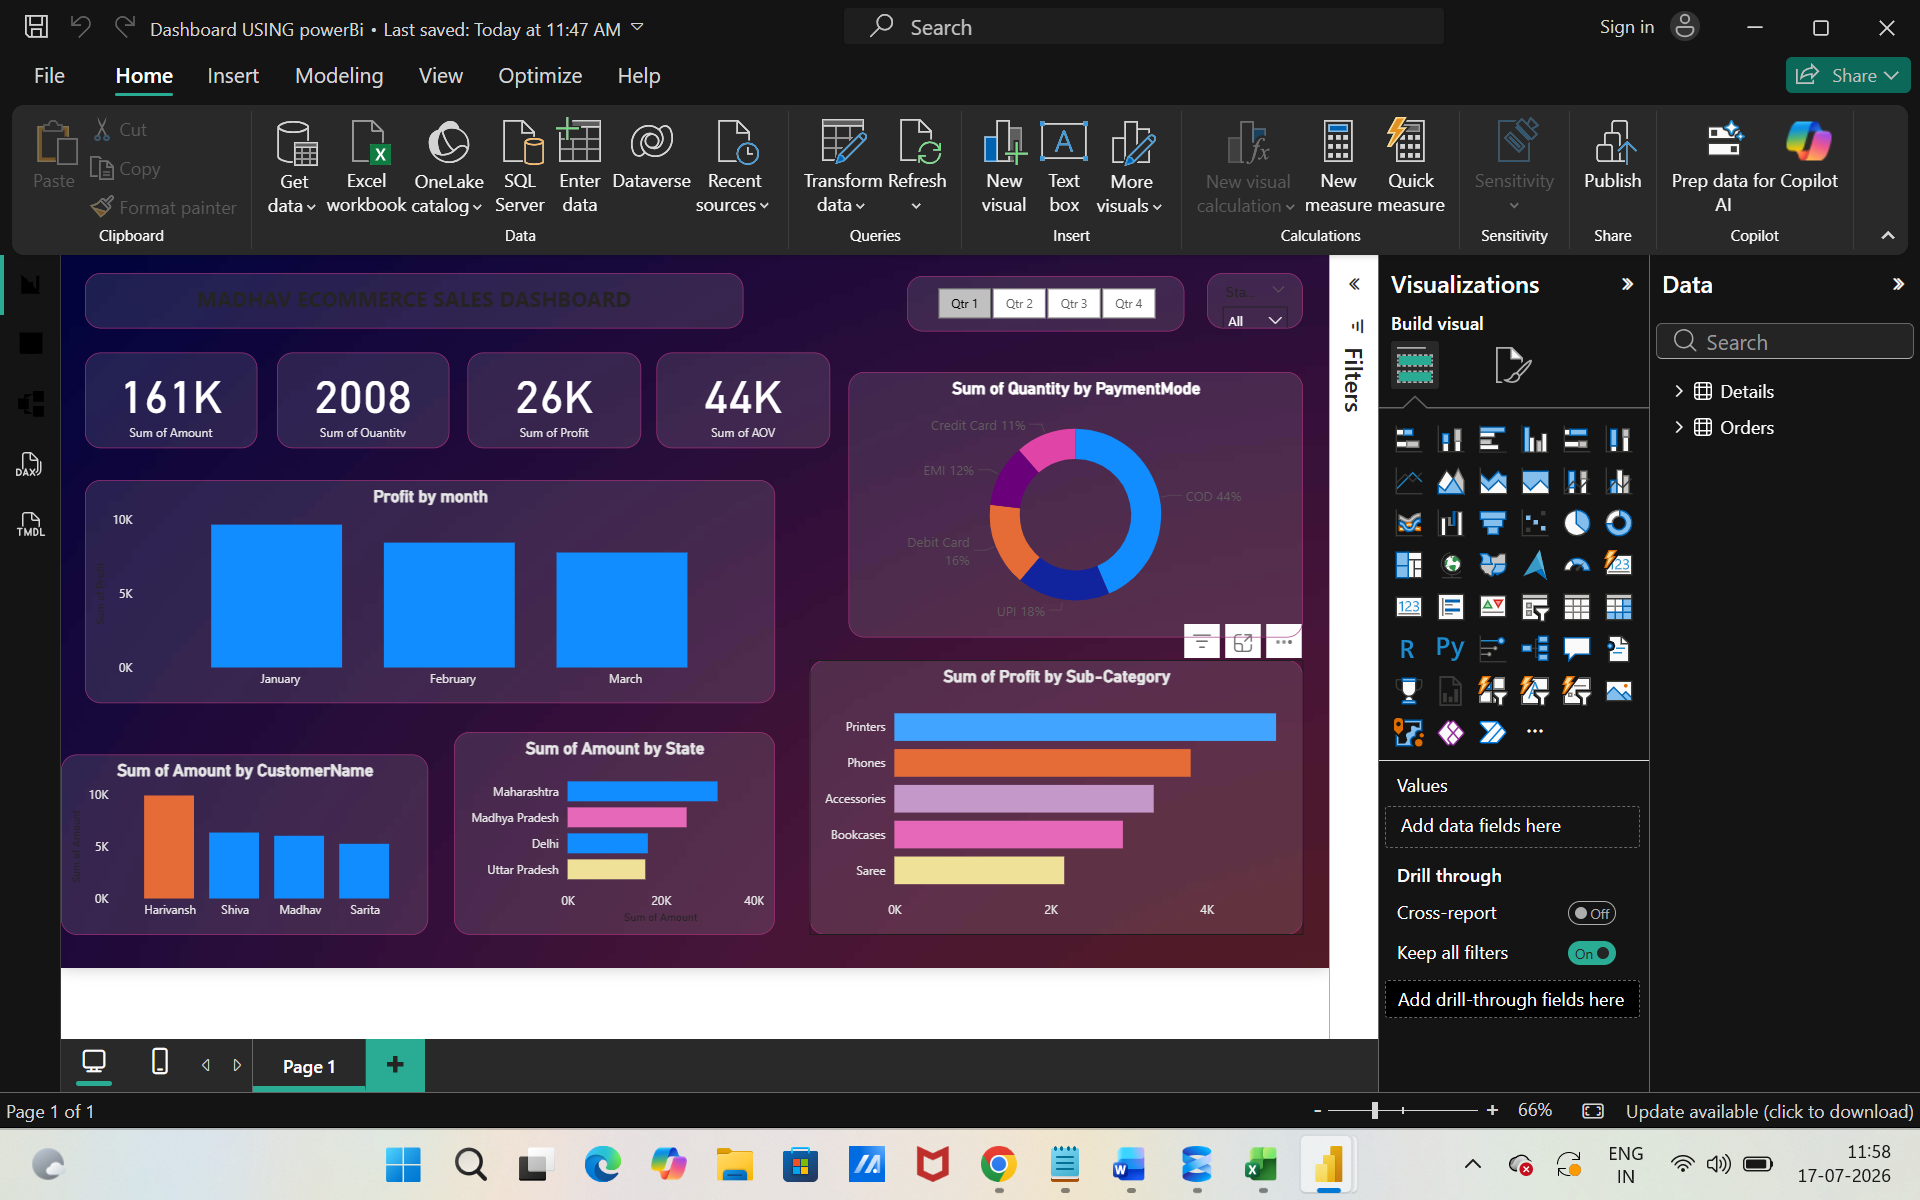

The dashboard page shown, as its layout file describes it:
{"tool":"powerbi","page":{"name":"Page 1","canvas":[1280,720],"ordinal":0},"visuals":[{"type":"textbox","box":[24.2,18.2,664.7,56],"z":0},{"type":"columnChart","title":" Profit by month","fields":{"Y":["Sum(Details.Profit)"],"Category":["Orders.Order Date.Variation.Date Hierarchy.Month"]},"box":[24.2,227.1,696.5,225.6],"z":1000},{"type":"barChart","fields":{"Category":["Details.Sub-Category"],"Y":["Sum(Details.Profit)"]},"box":[755.6,408.8,498.2,277.1],"z":2000},{"type":"card","fields":{"Values":["Sum(Details.Amount)"]},"box":[24.2,98.4,174.1,96.9],"z":3000},{"type":"donutChart","fields":{"Category":["Details.PaymentMode"],"Y":["Sum(Details.Quantity)"]},"box":[795,118.1,458.8,268],"z":4000},{"type":"card","fields":{"Values":["Sum(Details.Quantity)"]},"box":[218,98.4,174.1,96.9],"z":5000},{"type":"card","fields":{"Values":["Sum(Details.Profit)"]},"box":[410.3,98.4,175.6,96.9],"z":6000},{"type":"card","fields":{"Values":["Sum(Details.AOV)"]},"box":[601.1,98.4,175.6,96.9],"z":7000},{"type":"barChart","fields":{"Category":["Orders.State"],"Y":["Sum(Details.Amount)"]},"box":[396.7,481.5,324,204.4],"z":8000},{"type":"columnChart","fields":{"Category":["Orders.CustomerName"],"Y":["Sum(Details.Amount)"]},"box":[0,504.2,371,181.7],"z":9000},{"type":"slicer","fields":{"Values":["Orders.Order Date.Variation.Date Hierarchy.Quarter"]},"box":[854,21.2,280.1,56],"z":10000},{"type":"slicer","fields":{"Values":["Orders.State"]},"box":[1156.9,18.2,96.9,56],"z":11000}]}

Visuals, with their boxes on the page's 1280x720 design canvas (x1, y1, x2, y2). These are canvas units, not pixel positions in the 1920x1200 screenshot, which may show the page scaled, cropped or inside an application window:
textbox: 24 18 689 74
" Profit by month" columnChart: 24 227 721 453
barChart - Details.Sub-Category x Sum(Details.Profit): 756 409 1254 686
card - Sum(Details.Amount): 24 98 198 195
donutChart - Details.PaymentMode x Sum(Details.Quantity): 795 118 1254 386
card - Sum(Details.Quantity): 218 98 392 195
card - Sum(Details.Profit): 410 98 586 195
card - Sum(Details.AOV): 601 98 777 195
barChart - Orders.State x Sum(Details.Amount): 397 482 721 686
columnChart - Orders.CustomerName x Sum(Details.Amount): 0 504 371 686
slicer - Orders.Order Date.Variation.Date Hierarchy.Quarter: 854 21 1134 77
slicer - Orders.State: 1157 18 1254 74
